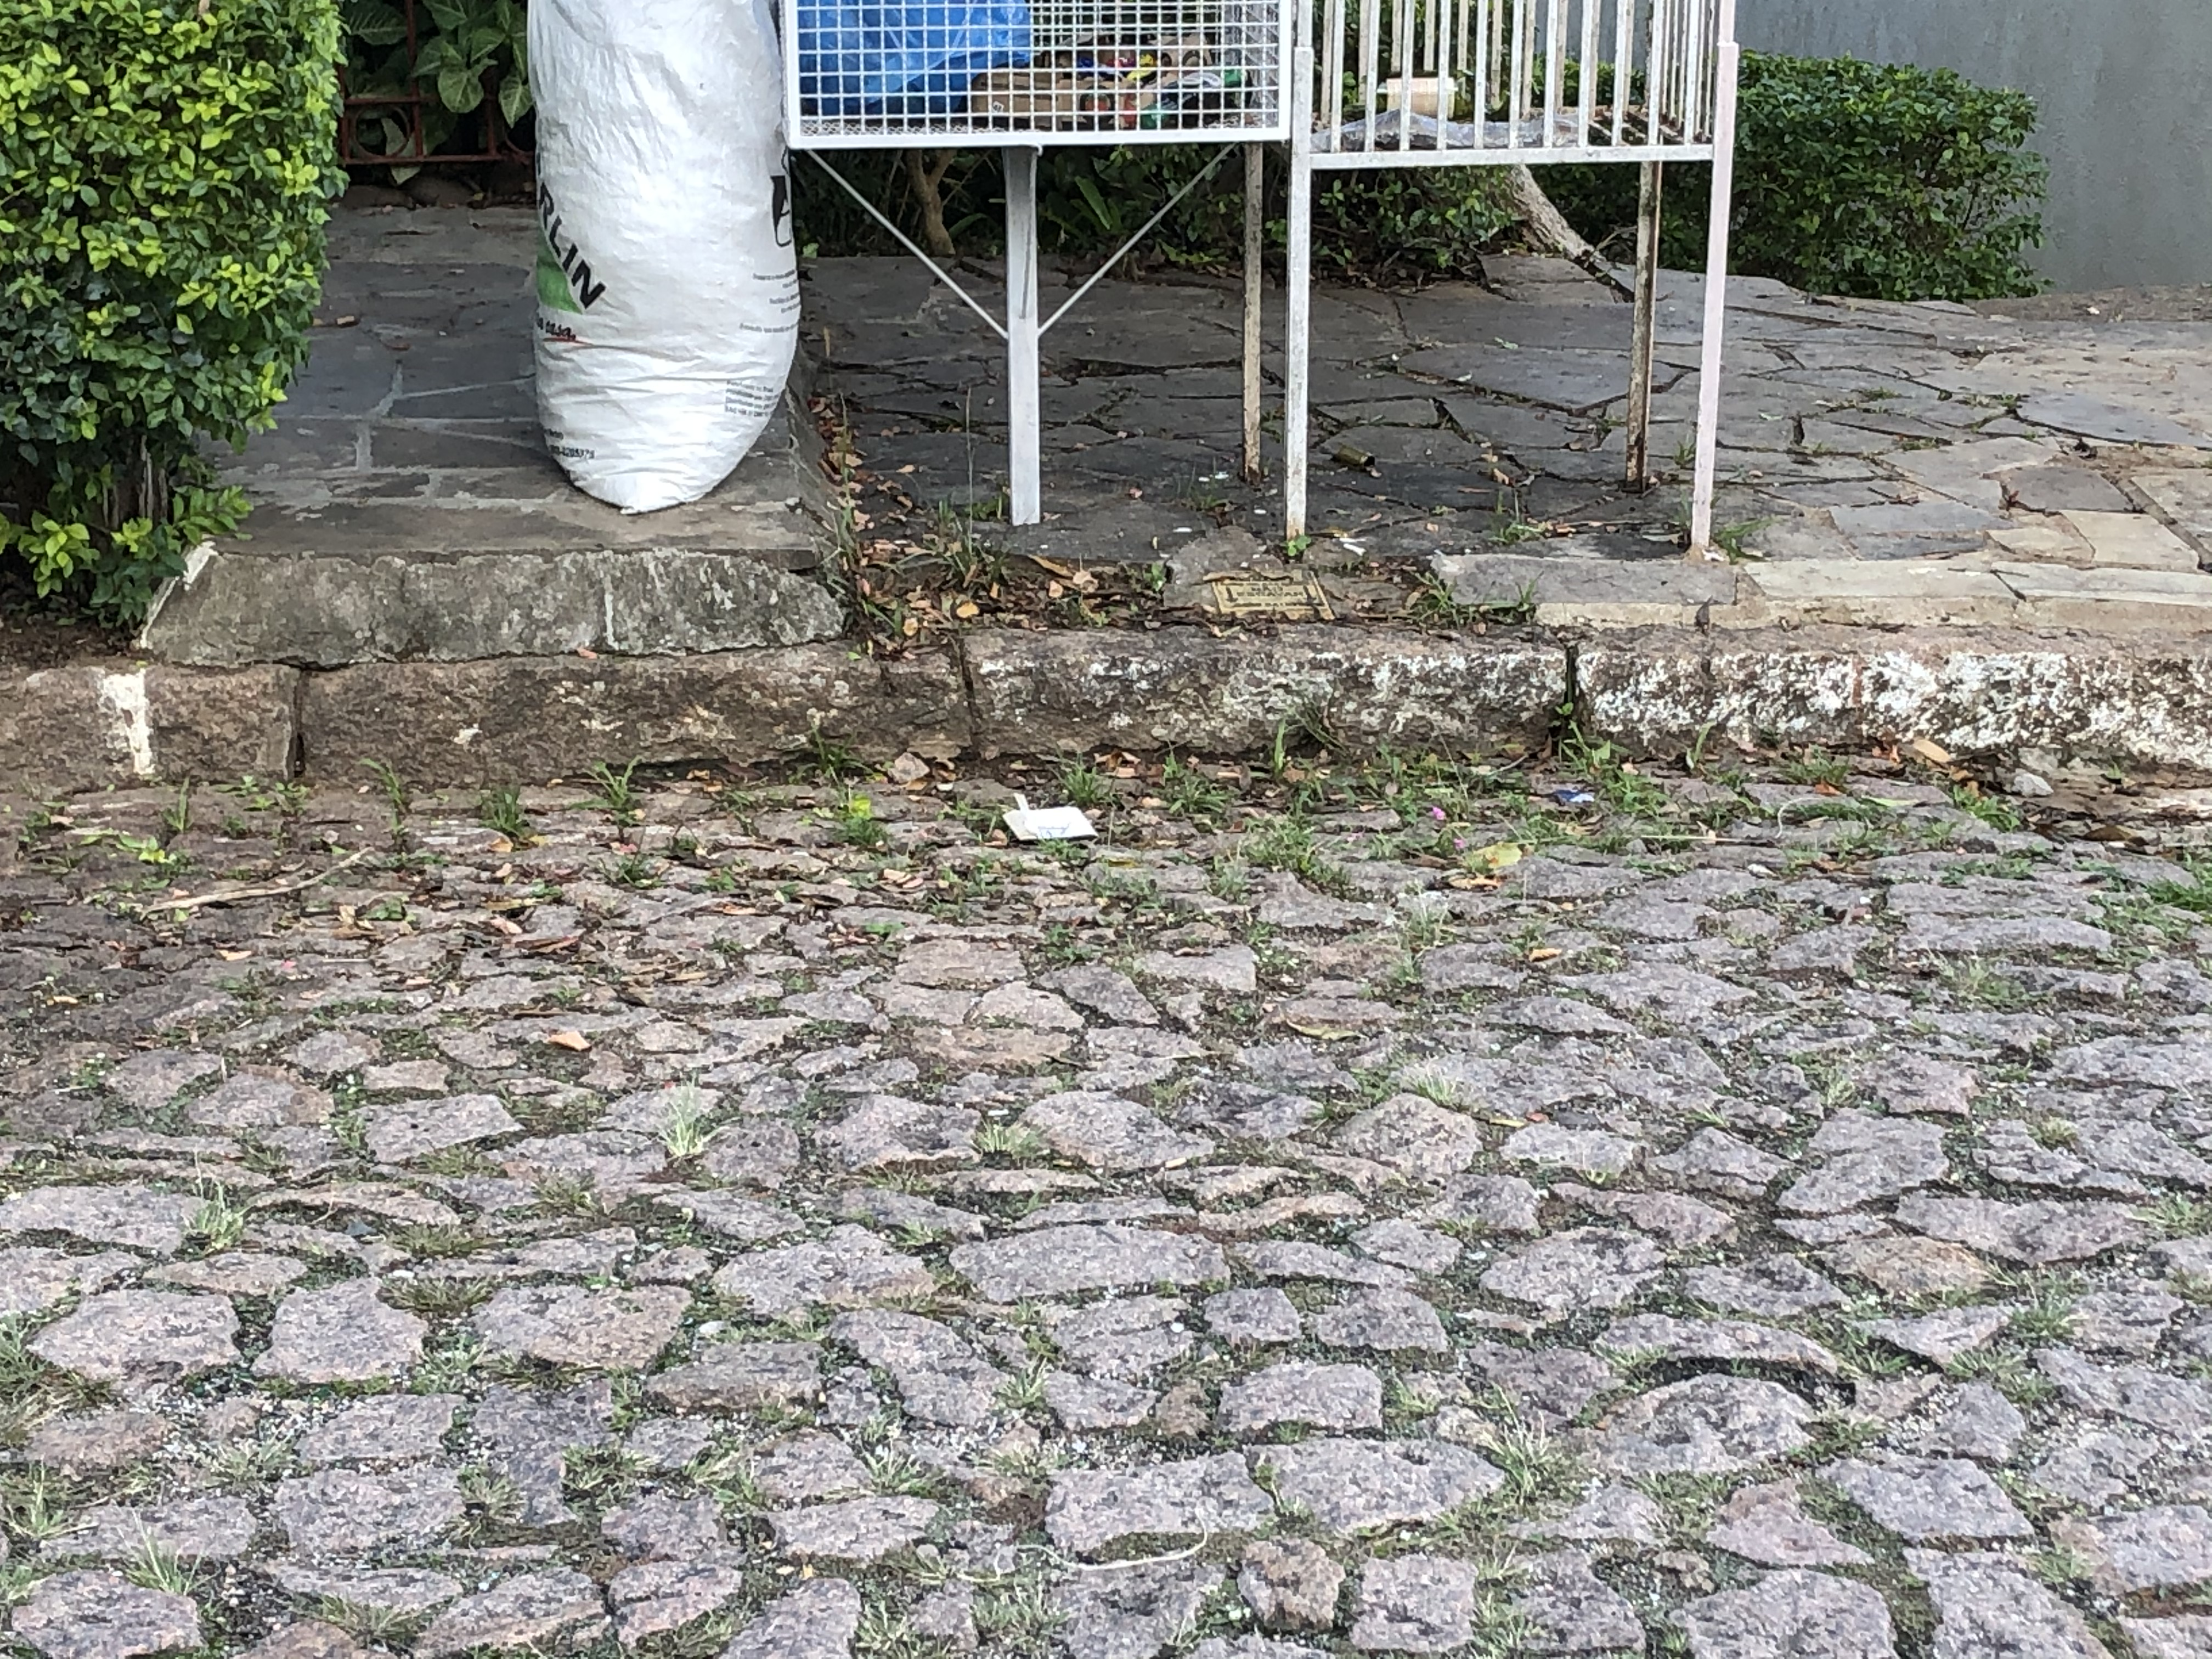vag9: (3, 131, 2212, 983)
